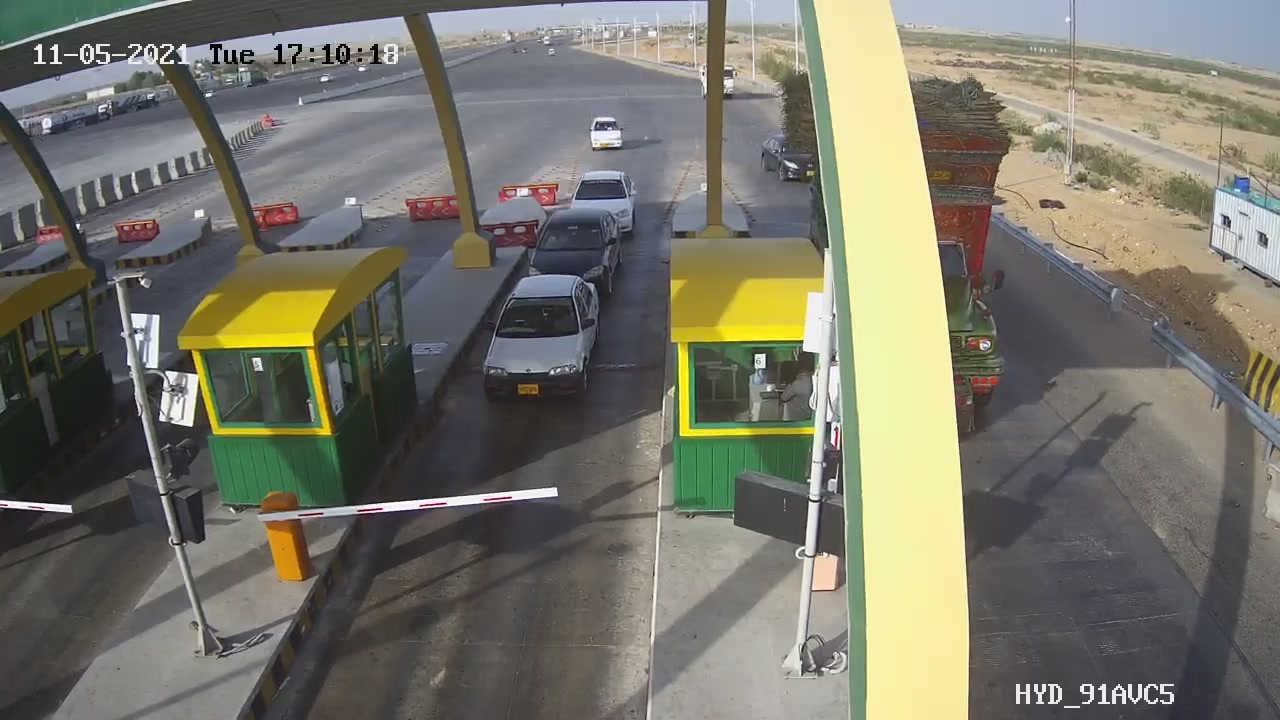F1: (466, 266, 621, 412), (507, 195, 648, 314)
